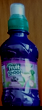blueberries: (1, 3, 41, 106)
